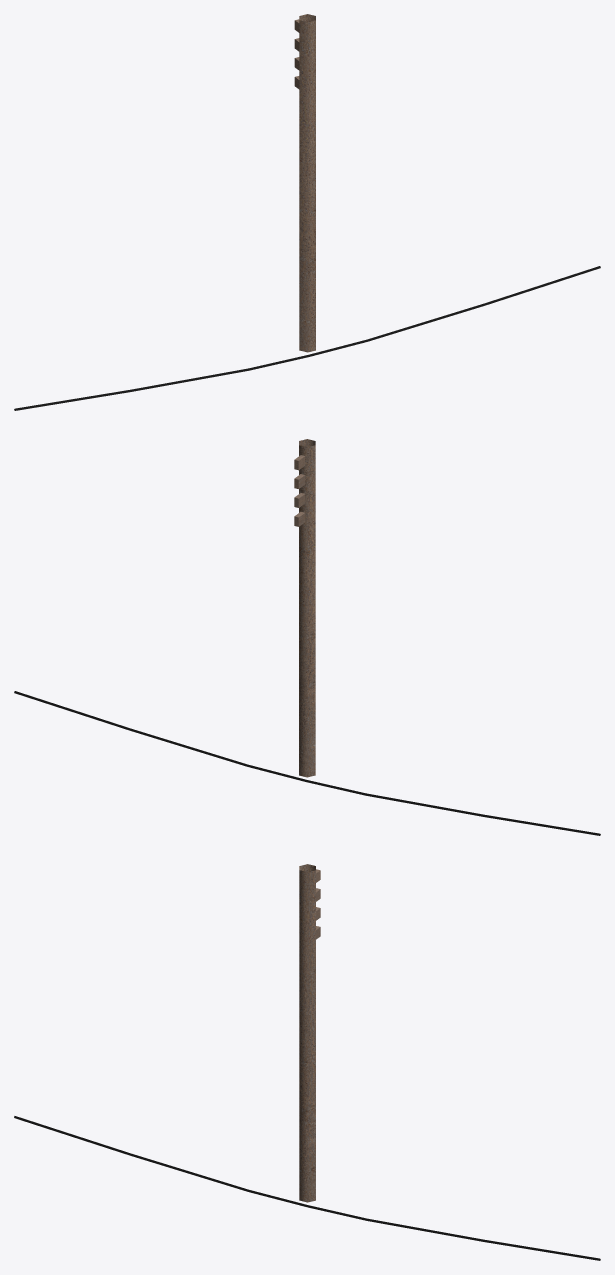
Rendered from SM_Electricity_Pole___Wire.fbx.
3 renders of one model, top to bottom at view 1: azimuth 30°, elevation 25°; view 2: azimuth 150°, elevation 25°; view 3: azimuth 330°, elevation 25°, orthographic.
Parts seen in each view (by area): view 1: SM_Electricity_Pole, SM_Wire; view 2: SM_Electricity_Pole, SM_Wire; view 3: SM_Electricity_Pole, SM_Wire.
Boxes of the visible parts, x1,y1,x2,y2 form: SM_Electricity_Pole: (294, 14, 315, 352); SM_Wire: (14, 266, 600, 410); SM_Electricity_Pole: (294, 439, 315, 777); SM_Wire: (14, 691, 600, 835); SM_Electricity_Pole: (299, 864, 320, 1202); SM_Wire: (14, 1116, 600, 1260).
Bounding box in the file's own units: 12991 × 7178 × 572.
2 materials, 2 textured.
